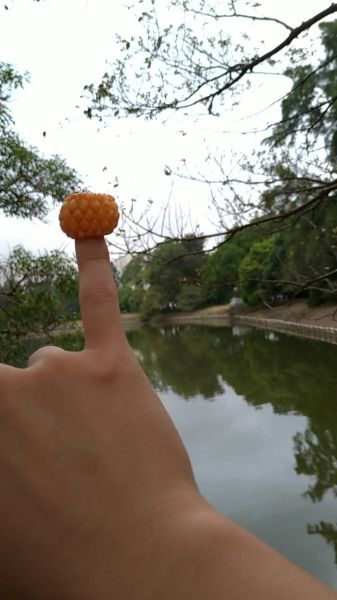eggs: (58, 192, 118, 236)
